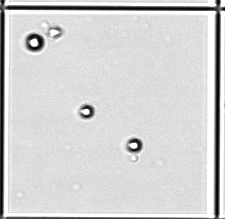Living Cell: (25, 32, 45, 52), (78, 102, 94, 120), (126, 137, 143, 153)
